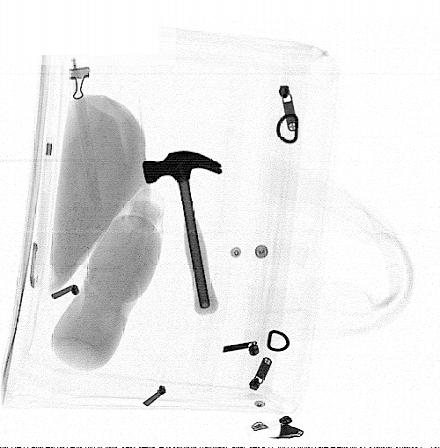Hammer: (142, 149, 223, 315)
